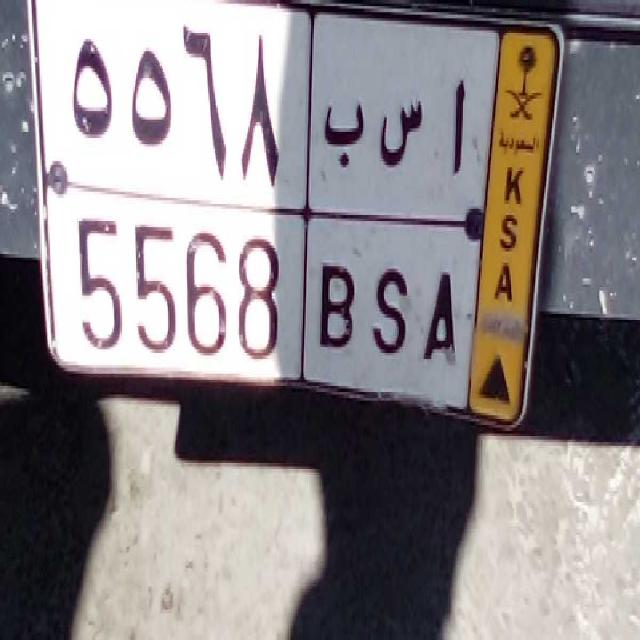license_plate: (51, 184, 468, 422)
